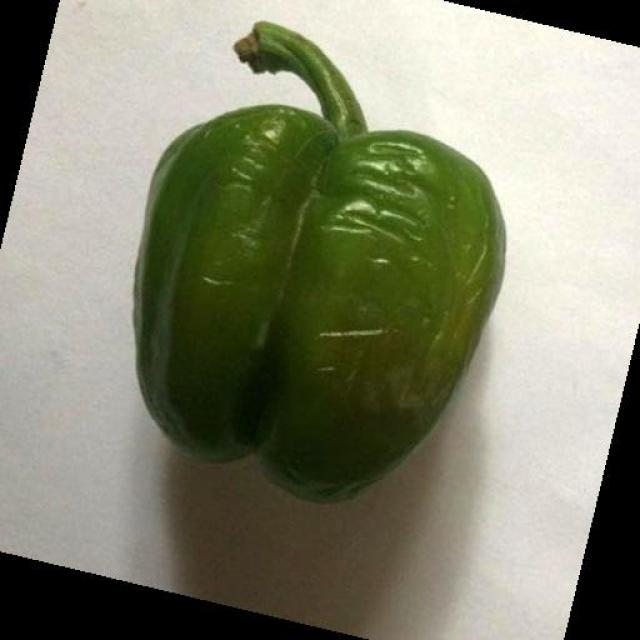Stale_Capsicum: (156, 0, 518, 520)
